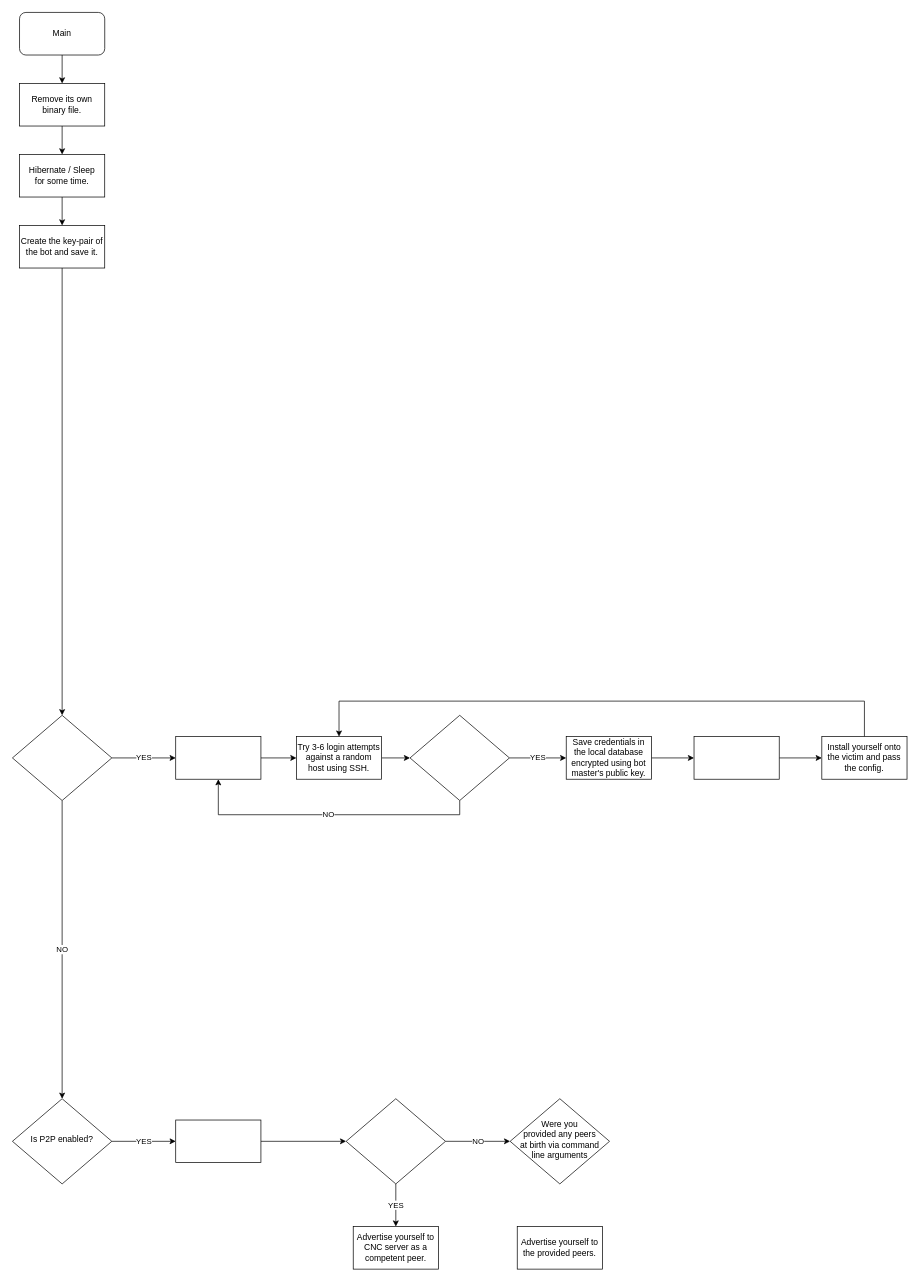
This 919x1282 diagram has some shape labels left out. The box of each missing label's shape, as (x1, y1, x2, y2) in pixels:
Add bot master's public key to the trusted SSH keys of the victim.: (693, 736, 779, 779)
Boot the P2P server.: (175, 1119, 261, 1163)
Correct credentials?: (409, 715, 509, 801)
Gateway is reachable?: (345, 1098, 446, 1184)
Open new concurrent threads for cracking. Determined by the configuration.: (175, 736, 261, 779)
SSH Cracker is enabled?: (12, 715, 112, 801)
